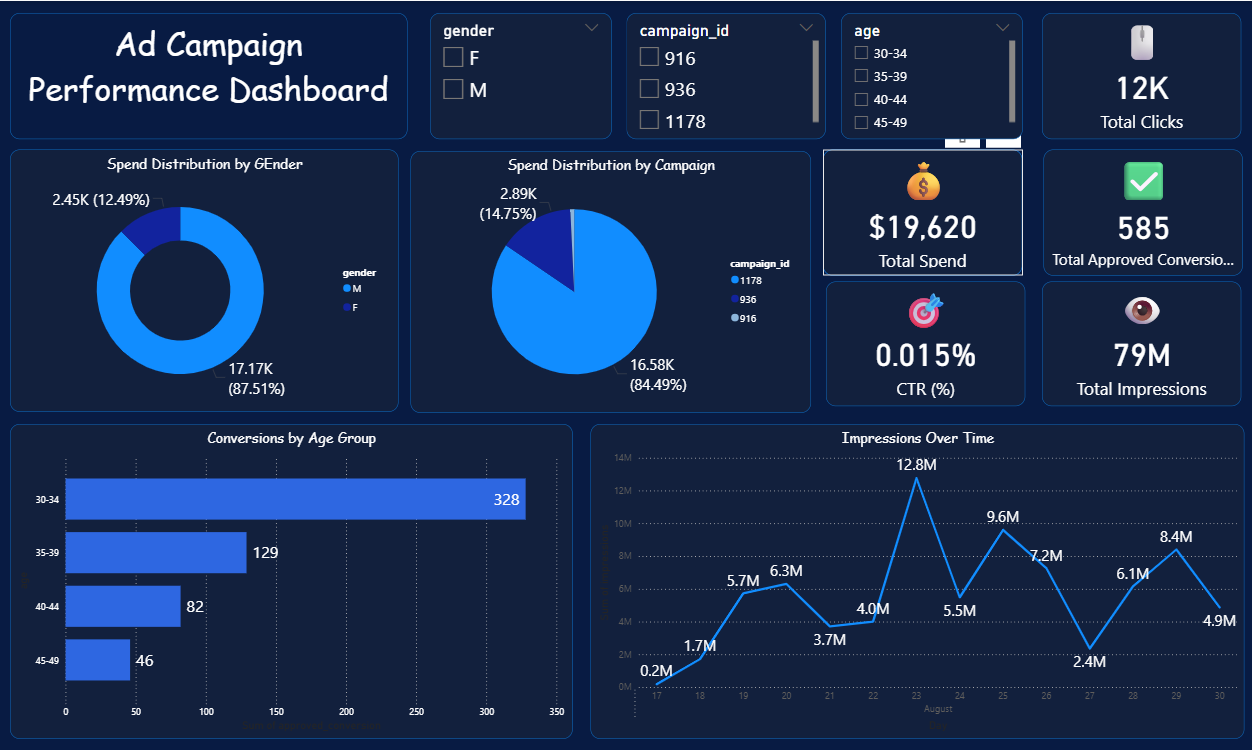

The page's visual inventory and layout, read from the dashboard file:
{"tool":"powerbi","page":{"name":"Page 1","canvas":[1675,1000],"ordinal":0},"visuals":[{"type":"card","title":"🎯","fields":{"Values":["All Measures.CTR (%)"]},"box":[1102.6,373.5,265.7,165.8],"z":0},{"type":"card","title":"🖱️","fields":{"Values":["All Measures.Total Clicks"]},"box":[1390.2,16,265.7,167.8],"z":1000},{"type":"card","title":"\t💰","fields":{"Values":["All Measures.Total Spend"]},"box":[1098.6,197.7,265.7,167.8],"z":2000},{"type":"card","title":"\t✅","fields":{"Values":["All Measures.Total Approved Conversions"]},"box":[1392.2,197.7,265.7,167.8],"z":3000},{"type":"clusteredBarChart","title":"Conversions by Age Group","fields":{"Category":["Ad analysis.age"],"Y":["Sum(Ad analysis.approved_conversion)"]},"box":[16,563.3,749,419.4],"z":4000},{"type":"card","title":"👁️","fields":{"Values":["All Measures.Total Impressions"]},"box":[1390.2,373.5,265.7,165.8],"z":5000},{"type":"donutChart","title":"Spend Distribution by GEnder","fields":{"Y":["Sum(Ad analysis.spent)"],"Category":["Ad analysis.gender"]},"box":[16,197.7,517.3,349.5],"z":6000},{"type":"pieChart","title":"Spend Distribution by Campaign","fields":{"Y":["Sum(Ad analysis.spent)"],"Category":["Ad analysis.campaign_id"]},"box":[548.9,200.1,533,348.7],"z":7000},{"type":"lineChart","title":"Impressions Over Time","fields":{"Y":["Sum(Ad analysis.impressions)"],"Category":["Ad analysis.reporting_end.Variation.Date Hierarchy.Month","Ad analysis.reporting_end.Variation.Date Hierarchy.Day"]},"box":[789,563.3,870.9,419.4],"z":8000},{"type":"slicer","fields":{"Values":["Ad analysis.gender"]},"box":[575.2,16,241.7,167.8],"z":9000},{"type":"slicer","fields":{"Values":["Ad analysis.age"]},"box":[1122.5,16,241.7,167.8],"z":10000},{"type":"slicer","fields":{"Values":["Ad analysis.campaign_id"]},"box":[836.9,16,265.7,167.8],"z":11000},{"type":"textbox","box":[16,16,529.3,167.8],"z":12000}]}

Visuals, with their boxes in screenshot pixels (x1, y1, x2, y2), scaled from the page's 1675x1000 canvas onto the 1252x750 screenshot:
"🎯" card: 824,280,1023,404
"🖱️" card: 1039,12,1238,138
"	💰" card: 821,148,1020,274
"	✅" card: 1041,148,1239,274
"Conversions by Age Group" clusteredBarChart: 12,422,572,737
"👁️" card: 1039,280,1238,404
"Spend Distribution by GEnder" donutChart: 12,148,399,410
"Spend Distribution by Campaign" pieChart: 410,150,809,412
"Impressions Over Time" lineChart: 590,422,1241,737
slicer - Ad analysis.gender: 430,12,611,138
slicer - Ad analysis.age: 839,12,1020,138
slicer - Ad analysis.campaign_id: 626,12,824,138
textbox: 12,12,408,138
